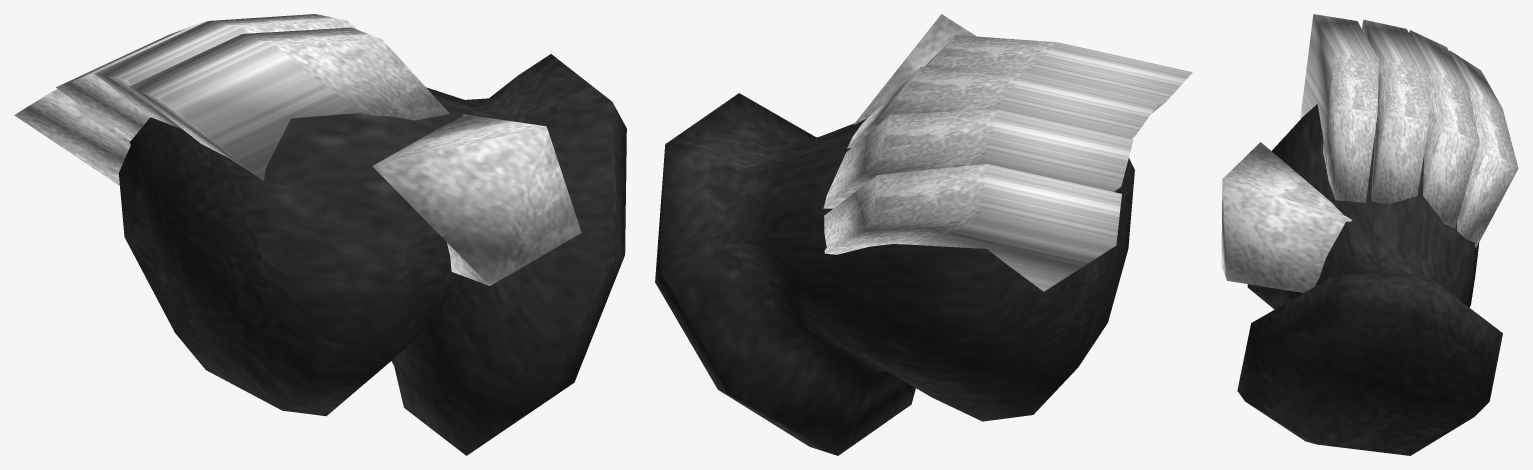
Rendered from powerglove.fbx.
3 renders of one model, left to right at view 1: azimuth 30°, elevation 25°; view 2: azimuth 150°, elevation 25°; view 3: azimuth 270°, elevation 25°, orthographic. The views are drawn at different scales.
Visible parts, largest first — view 1: COLOR2, COLOR1; view 2: COLOR2, COLOR1; view 3: COLOR2, COLOR1.
Part boxes in pixels (<box>): COLOR2: <box>118,54,626,455</box>; COLOR1: <box>14,14,581,285</box>; COLOR2: <box>655,93,1134,455</box>; COLOR1: <box>823,14,1192,291</box>; COLOR2: <box>1237,104,1502,455</box>; COLOR1: <box>1221,14,1518,292</box>.
Size of the model in its own units: 470 by 389 by 318.
2 materials, 2 textured.
